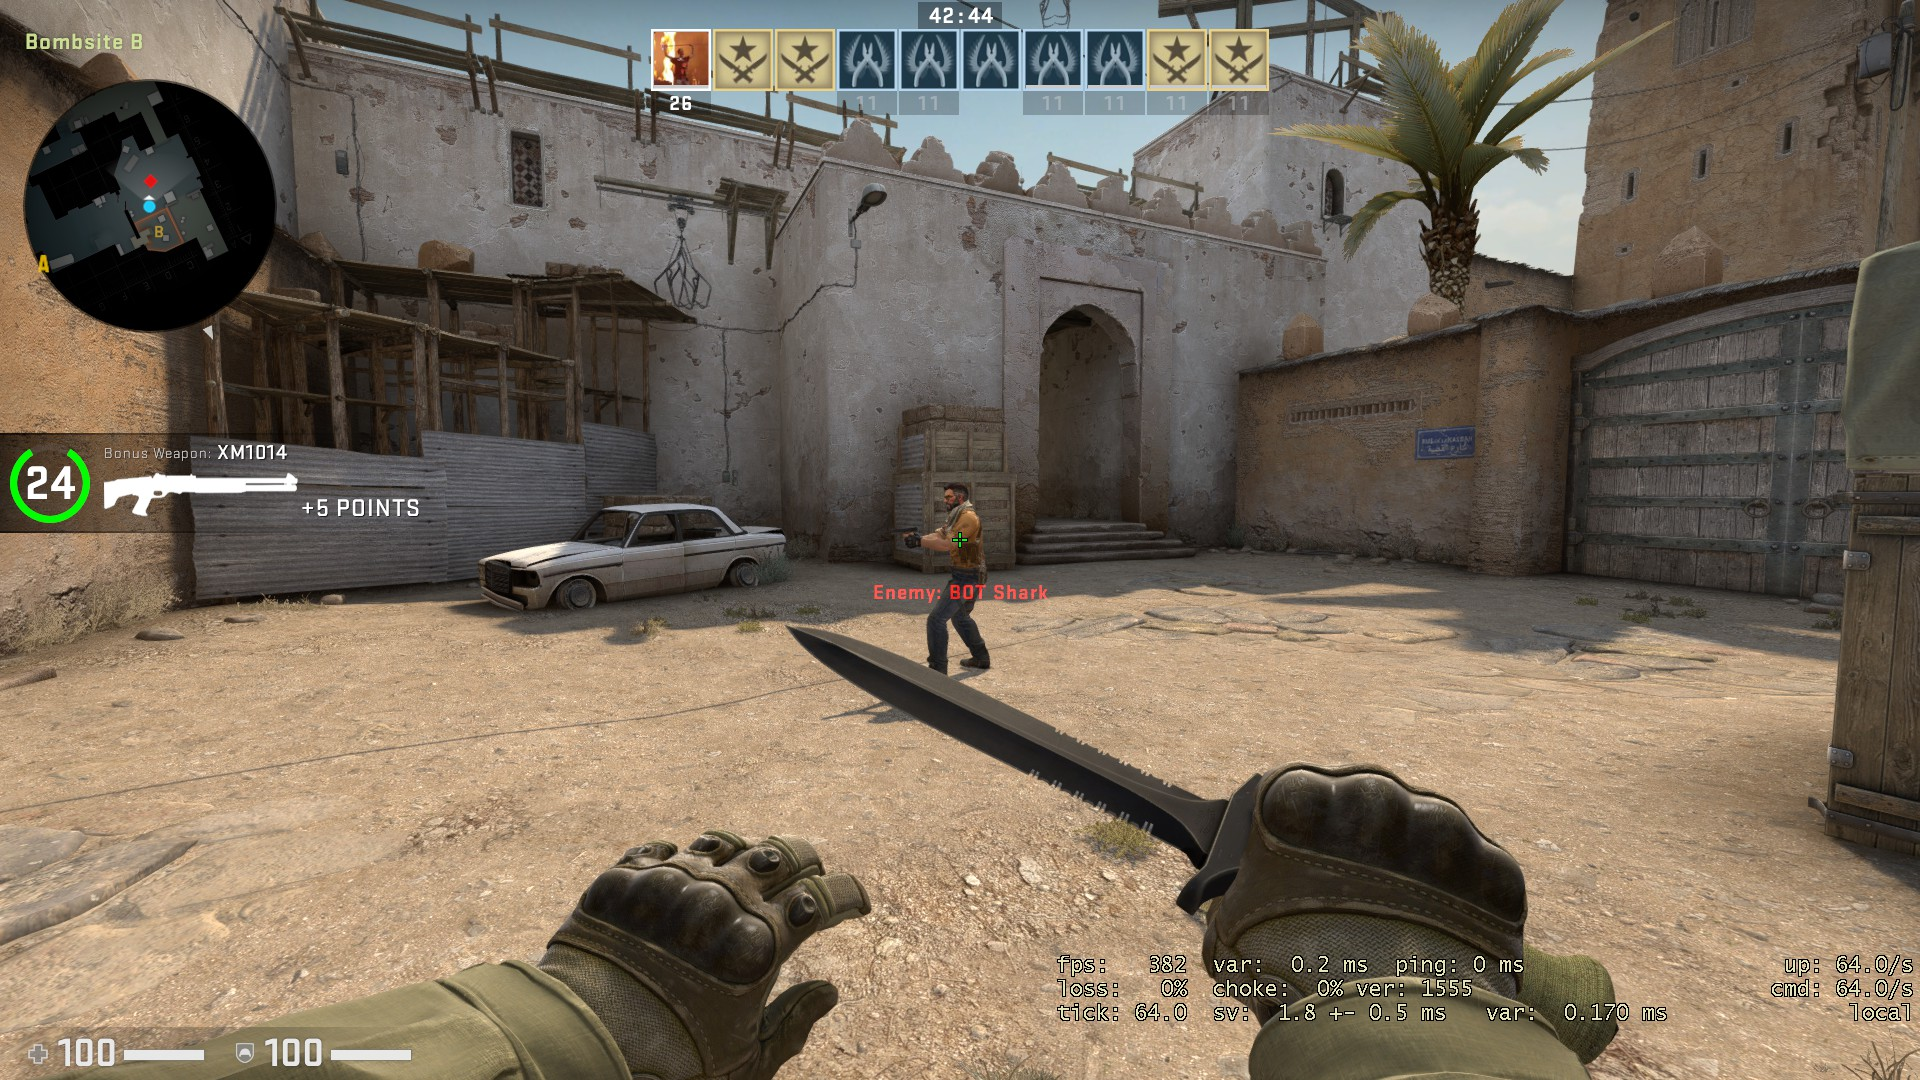player: (887, 480, 998, 680)
